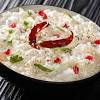curd_rice: (4, 7, 98, 81)
